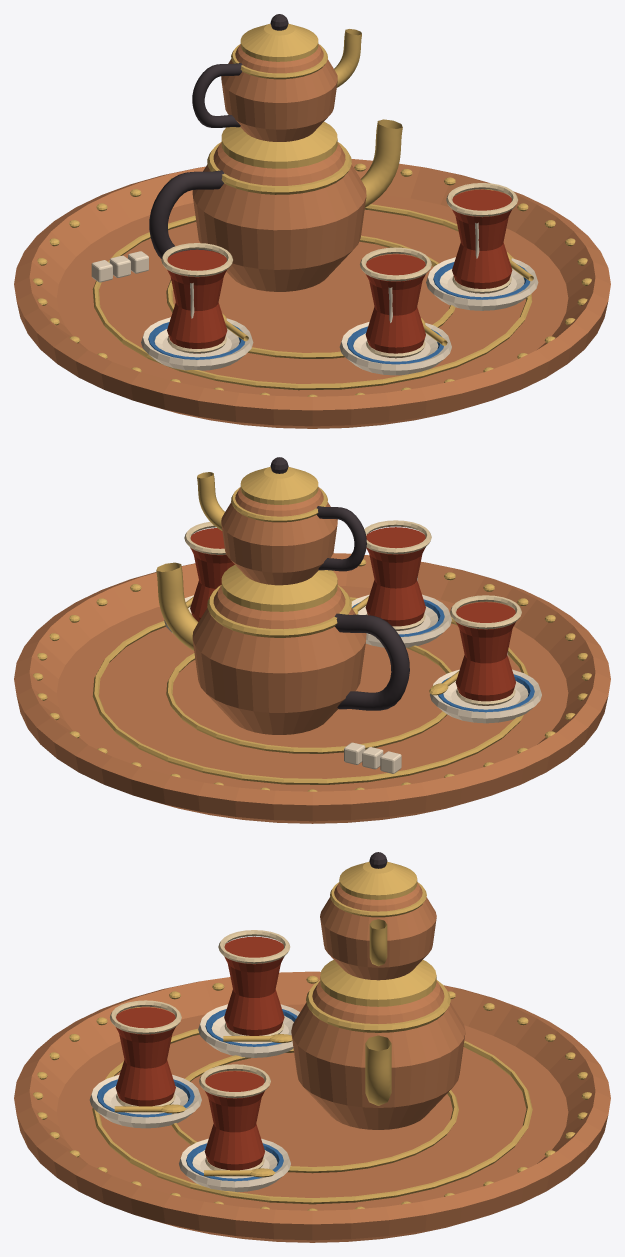
Rendered from Obstacle_Tea_Detailed.glb.
3 renders of one model, top to bottom at view 1: azimuth 30°, elevation 25°; view 2: azimuth 150°, elevation 25°; view 3: azimuth 270°, elevation 25°, orthographic.
Visible parts, largest first — view 1: Tea service - Hammered copper, Tea service - Aged brass, Tea service - Amber tea, Tea service - Ivory ceramic, Tea service - Forged iron, Tea service - Stylized glass rim, Tea service - Iznik blue enamel; view 2: Tea service - Hammered copper, Tea service - Aged brass, Tea service - Amber tea, Tea service - Ivory ceramic, Tea service - Forged iron, Tea service - Stylized glass rim, Tea service - Iznik blue enamel; view 3: Tea service - Hammered copper, Tea service - Aged brass, Tea service - Amber tea, Tea service - Ivory ceramic, Tea service - Stylized glass rim, Tea service - Iznik blue enamel.
Boxes of the visible parts, x1=… form: Tea service - Hammered copper: x1=14, y1=44, x2=610, y2=428; Tea service - Aged brass: x1=33, y1=23, x2=591, y2=396; Tea service - Amber tea: x1=167, y1=189, x2=512, y2=358; Tea service - Ivory ceramic: x1=91, y1=222, x2=538, y2=375; Tea service - Forged iron: x1=149, y1=14, x2=288, y2=258; Tea service - Stylized glass rim: x1=161, y1=183, x2=517, y2=357; Tea service - Iznik blue enamel: x1=148, y1=262, x2=530, y2=364; Tea service - Hammered copper: x1=14, y1=487, x2=610, y2=823; Tea service - Aged brass: x1=33, y1=466, x2=591, y2=791; Tea service - Amber tea: x1=190, y1=527, x2=515, y2=705; Tea service - Ivory ceramic: x1=164, y1=576, x2=541, y2=773; Tea service - Forged iron: x1=270, y1=457, x2=409, y2=710; Tea service - Stylized glass rim: x1=184, y1=520, x2=521, y2=705; Tea service - Iznik blue enamel: x1=352, y1=599, x2=534, y2=712; Tea service - Hammered copper: x1=14, y1=882, x2=610, y2=1242; Tea service - Aged brass: x1=33, y1=861, x2=591, y2=1210; Tea service - Amber tea: x1=115, y1=936, x2=284, y2=1170; Tea service - Ivory ceramic: x1=89, y1=1004, x2=299, y2=1192; Tea service - Stylized glass rim: x1=110, y1=930, x2=290, y2=1170; Tea service - Iznik blue enamel: x1=97, y1=1009, x2=297, y2=1181.
Bounding box in the file's own units: 1.54 × 0.7883 × 1.54.
